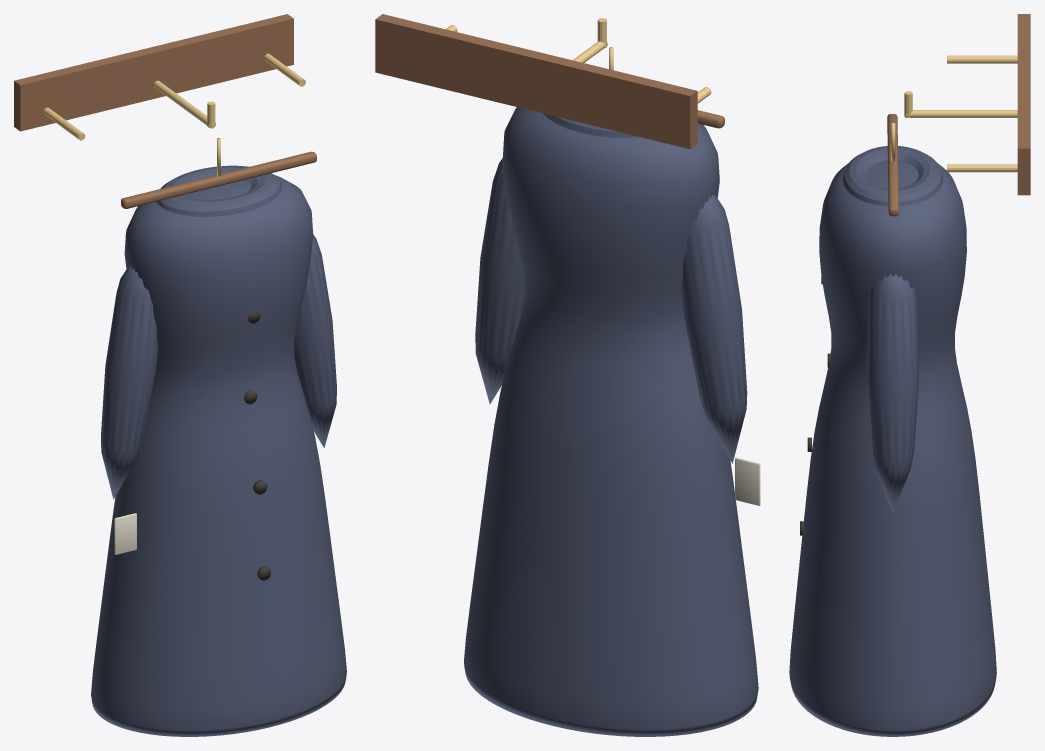
The model's file is v2_hanging_coat.fbx.
3 renders of one model, left to right at view 1: azimuth 30°, elevation 25°; view 2: azimuth 150°, elevation 25°; view 3: azimuth 270°, elevation 25°, orthographic. The views are drawn at different scales.
Visible parts, largest first — view 1: HC_CoatShell, HC_PegBoard, HC_CoatSleeve-1, HC_CoatSleeve1, HC_CoatCollar, HC_Hanger, HC_CoatTag, HC_Peg; view 2: HC_CoatShell, HC_PegBoard, HC_CoatSleeve-1, HC_CoatSleeve1, HC_CoatTag, HC_CoatCollar; view 3: HC_CoatShell, HC_CoatSleeve1, HC_CoatCollar, HC_PegBoard, HC_Hanger, HC_Peg, HC_Peg2_155, HC_Peg2_204.
Part boxes in pixels (box(x1,y1,x2,y2)): HC_CoatShell: box(91, 174, 346, 736); HC_PegBoard: box(14, 14, 293, 131); HC_CoatSleeve-1: box(101, 266, 158, 499); HC_CoatSleeve1: box(294, 235, 336, 447); HC_CoatCollar: box(157, 165, 281, 216); HC_Hanger: box(121, 151, 316, 208); HC_CoatTag: box(114, 513, 136, 554); HC_Peg: box(153, 80, 215, 128); HC_CoatShell: box(464, 107, 758, 736); HC_PegBoard: box(375, 14, 697, 149); HC_CoatSleeve-1: box(681, 194, 747, 463); HC_CoatSleeve1: box(475, 158, 524, 404); HC_CoatTag: box(735, 457, 760, 505); HC_CoatCollar: box(543, 113, 640, 138); HC_CoatShell: box(789, 160, 996, 736); HC_CoatSleeve1: box(867, 274, 919, 513); HC_CoatCollar: box(843, 146, 943, 206); HC_PegBoard: box(1017, 14, 1030, 195); HC_Hanger: box(887, 114, 898, 216); HC_Peg: box(906, 110, 1017, 117); HC_Peg2_155: box(947, 55, 1017, 63); HC_Peg2_204: box(947, 164, 1017, 172).
Size of the model in its own units: 0.62 by 1.28 by 0.4693.
